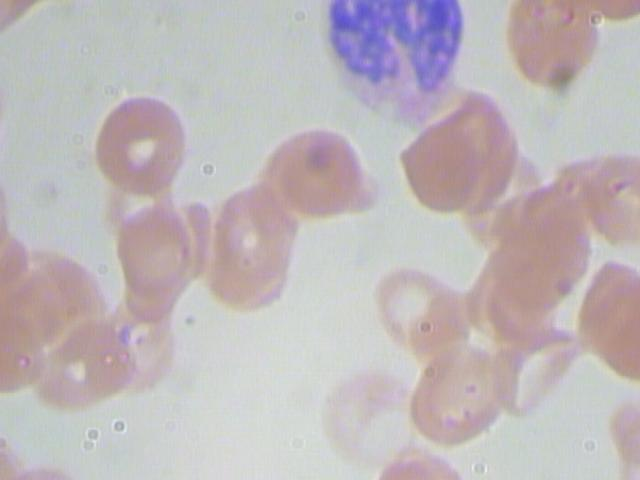RBC: (197, 182, 309, 314), (24, 311, 137, 424), (403, 341, 509, 451), (487, 322, 592, 423), (438, 92, 525, 213), (90, 91, 190, 193), (271, 121, 371, 223), (368, 260, 468, 362), (387, 119, 487, 221), (567, 251, 640, 381), (499, 1, 605, 89), (109, 198, 197, 295)
